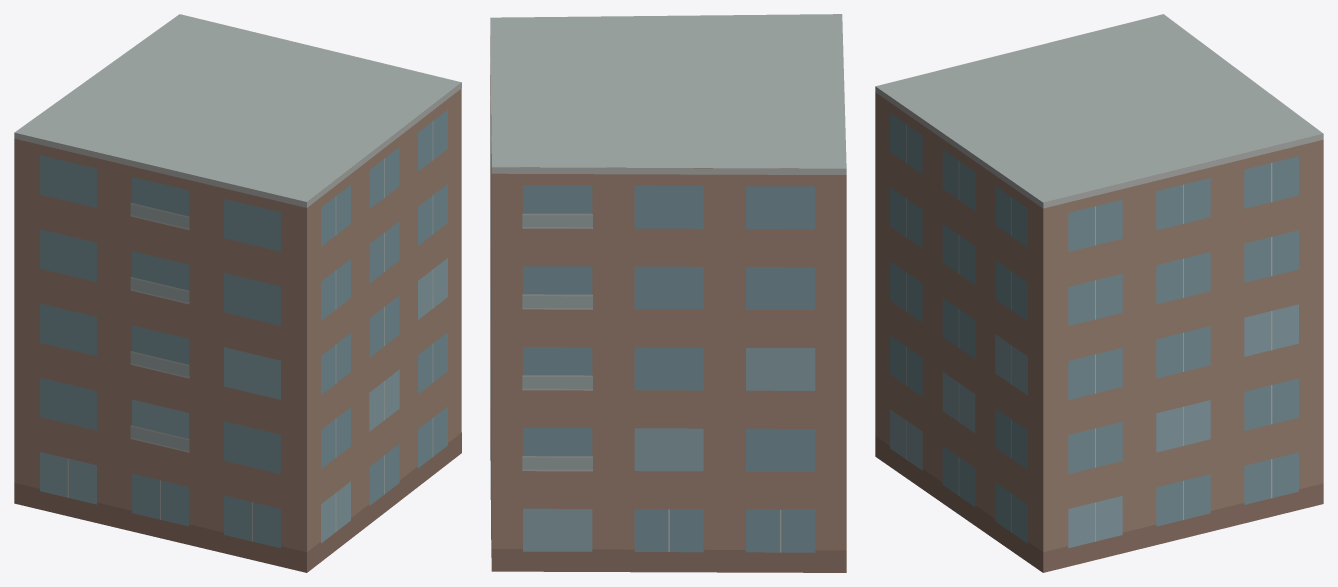
Rendered from survey-upis-33040608.glb.
3 renders of one model, left to right at view 1: azimuth 30°, elevation 25°; view 2: azimuth 150°, elevation 25°; view 3: azimuth 270°, elevation 25°, orthographic. The views are drawn at different scales.
Parts seen in each view (by area): view 1: survey-upis-33040608.tmp; view 2: survey-upis-33040608.tmp; view 3: survey-upis-33040608.tmp.
Boxes of the visible parts, left/top/right/bottom form: survey-upis-33040608.tmp: left=14, top=14, right=461, bottom=572; survey-upis-33040608.tmp: left=490, top=14, right=846, bottom=572; survey-upis-33040608.tmp: left=875, top=14, right=1323, bottom=572.
Size of the model in its own units: 16.62 by 15.2 by 16.69.
